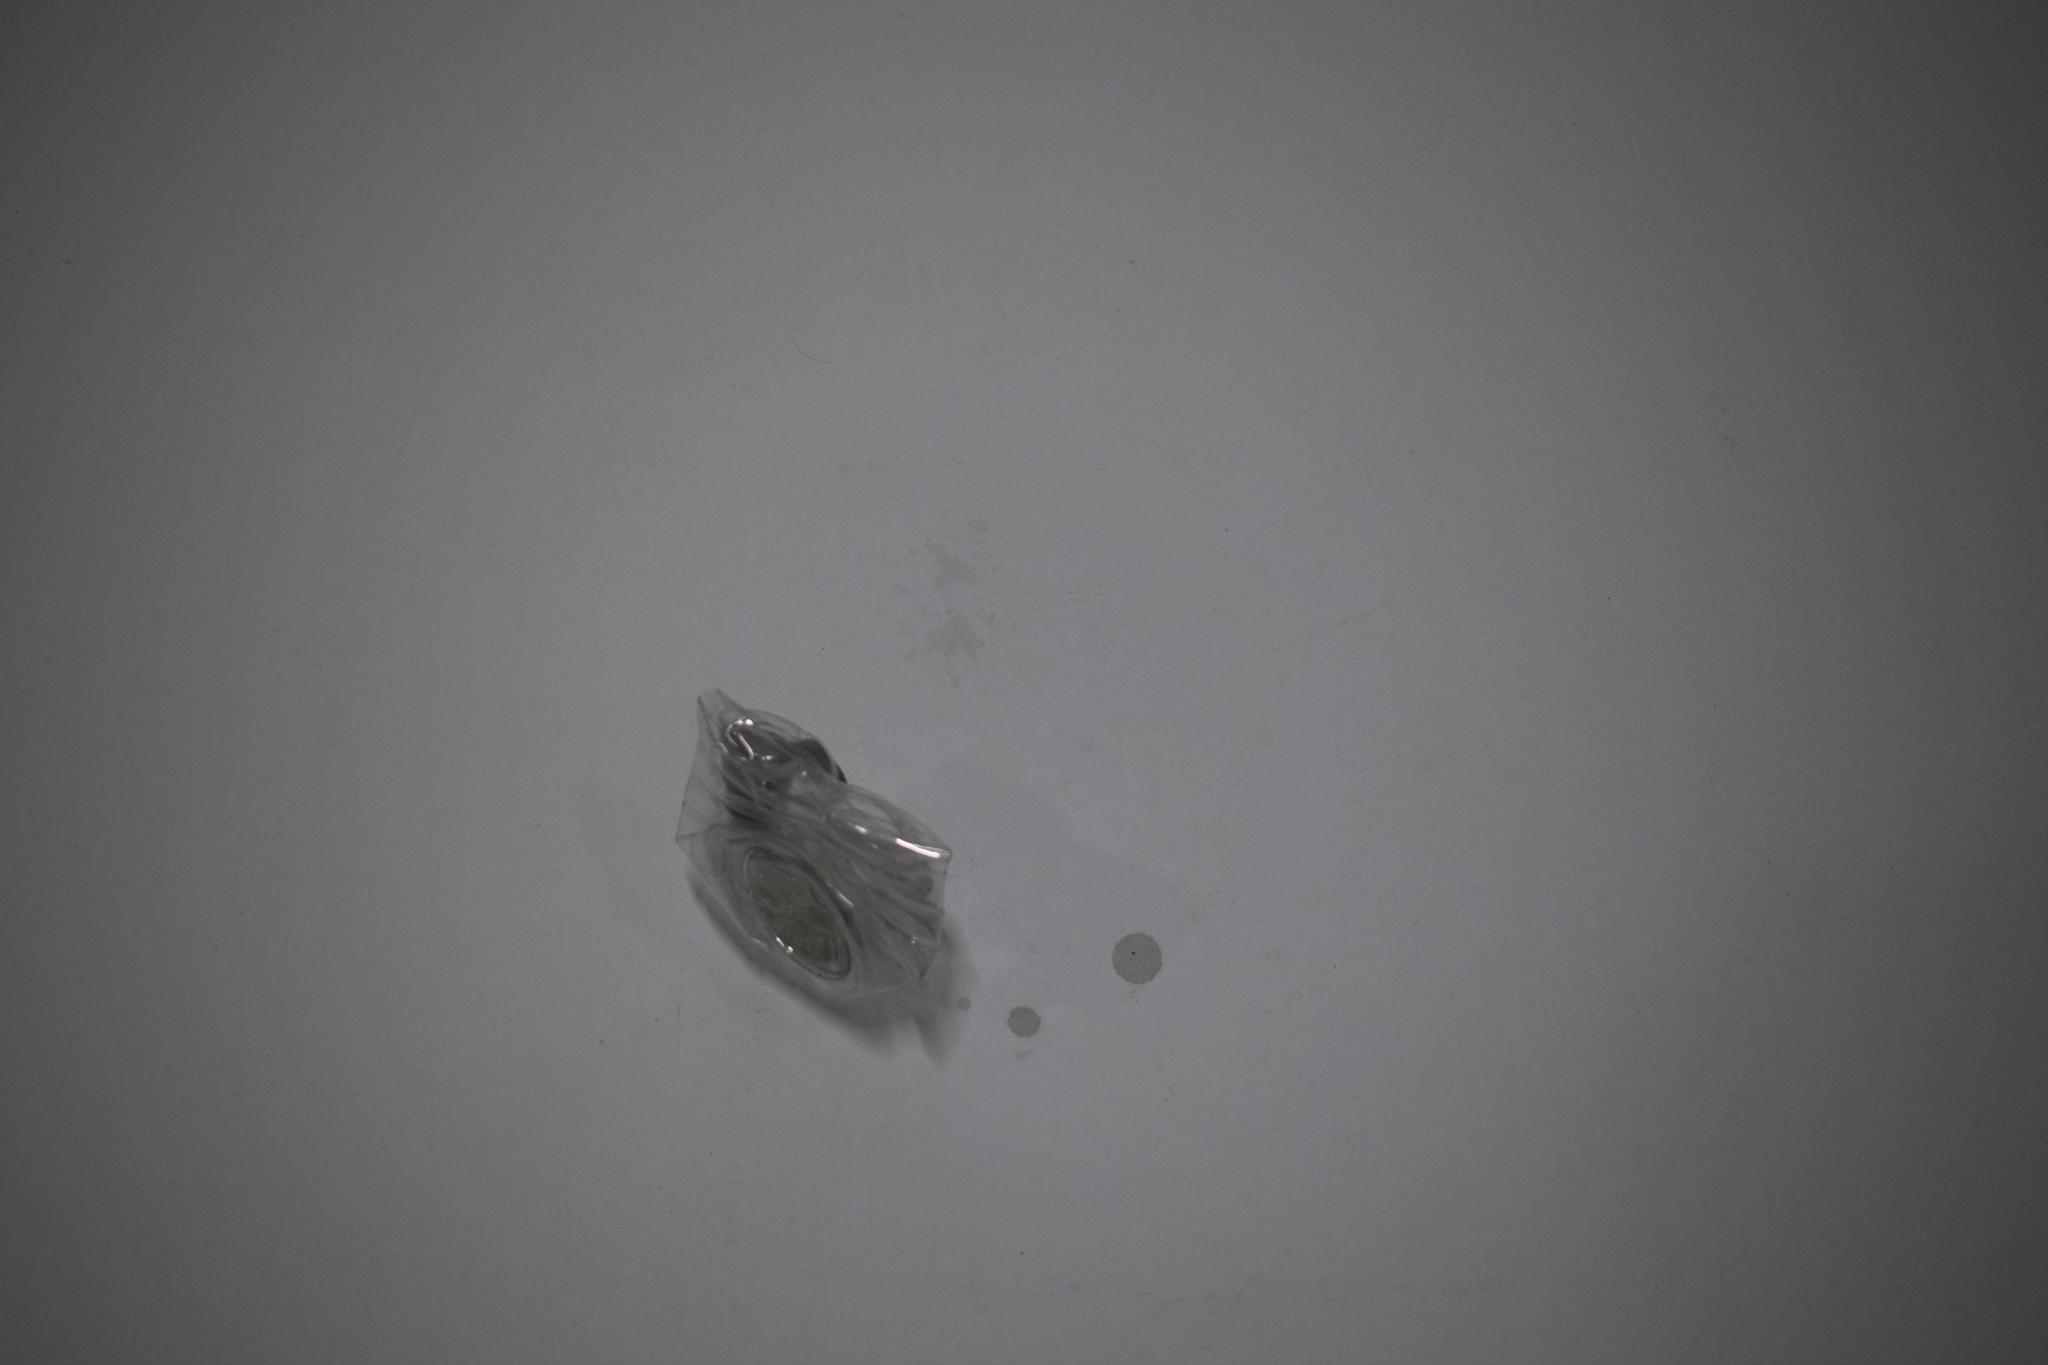bottle: (662, 672, 962, 1057)
